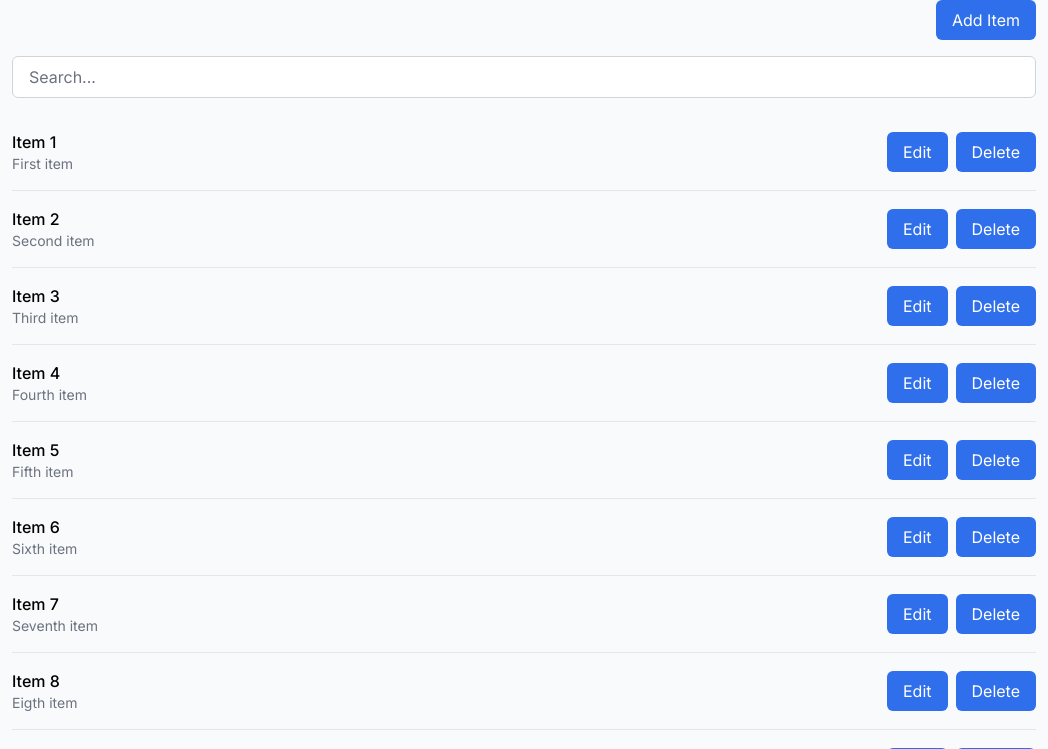
renderList › should filter items based on search query
// Search for specific item
Type "Item 2" into the field with placeholder "Search..." at x=524, y=77, box [12,56,1036,98]
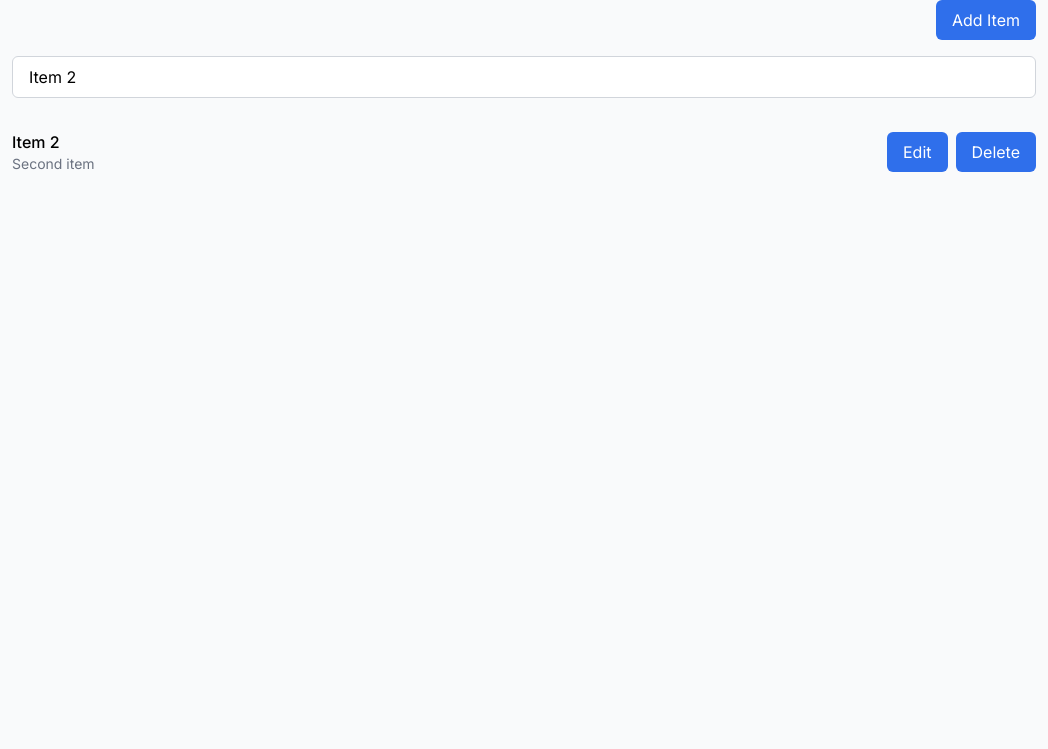
Check: the text "Item 2" is shown, box [12,132,60,152]
Check: the text "Item 1" is gone
